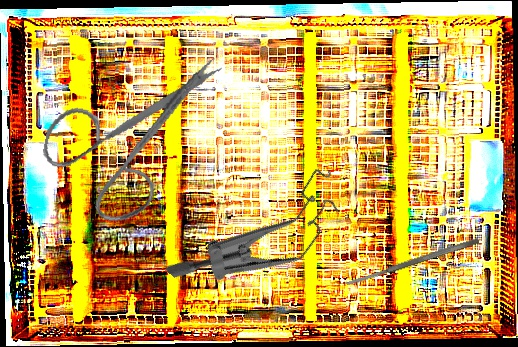Iris Scissors: (32, 25, 225, 237)
Spatula Surgical: (345, 236, 480, 288)
Speculum: (162, 126, 358, 335)
